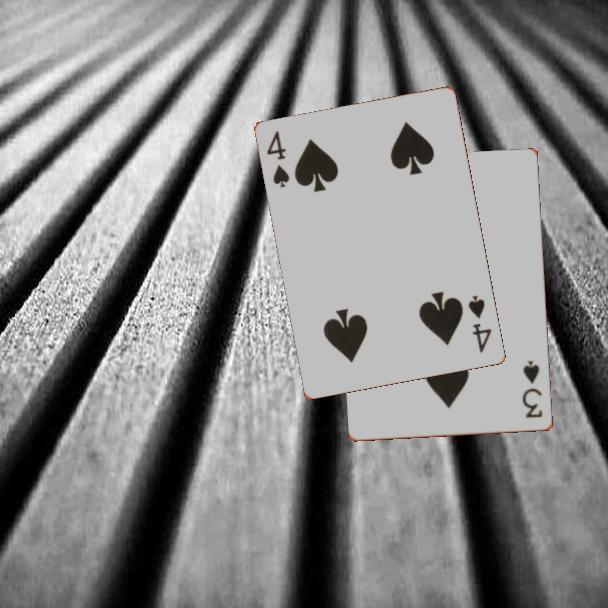s03: (519, 357, 546, 421)
s04: (464, 291, 494, 356), (263, 127, 292, 190)
